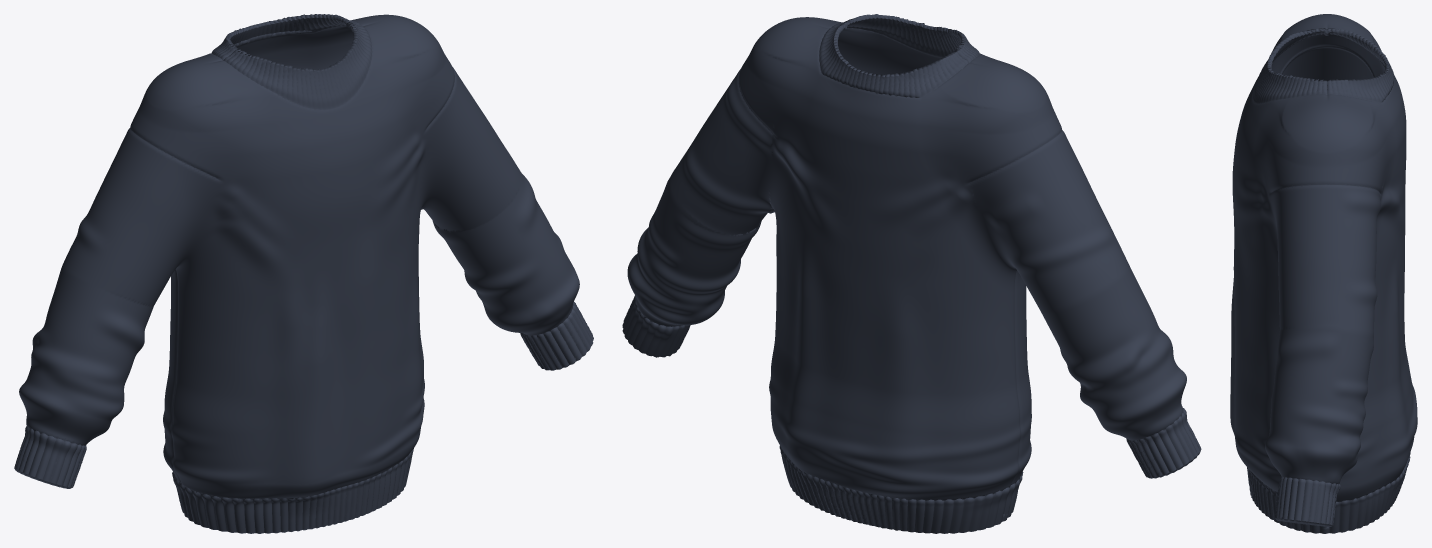
File: 01_jersey_cuello_redondo.glb
3 views of the same model, side by side, from view 1: azimuth 30°, elevation 25°; view 2: azimuth 150°, elevation 25°; view 3: azimuth 270°, elevation 25° (orthographic). The views are drawn at different scales.
Visible parts, largest first — view 1: body; view 2: body; view 3: body.
Boxes of the visible parts, left/top/right/bottom form: body: left=14, top=14, right=593, bottom=533; body: left=622, top=14, right=1201, bottom=533; body: left=1230, top=14, right=1417, bottom=533.
Bounding box in the file's own units: 0.988 × 0.7641 × 0.2989.
